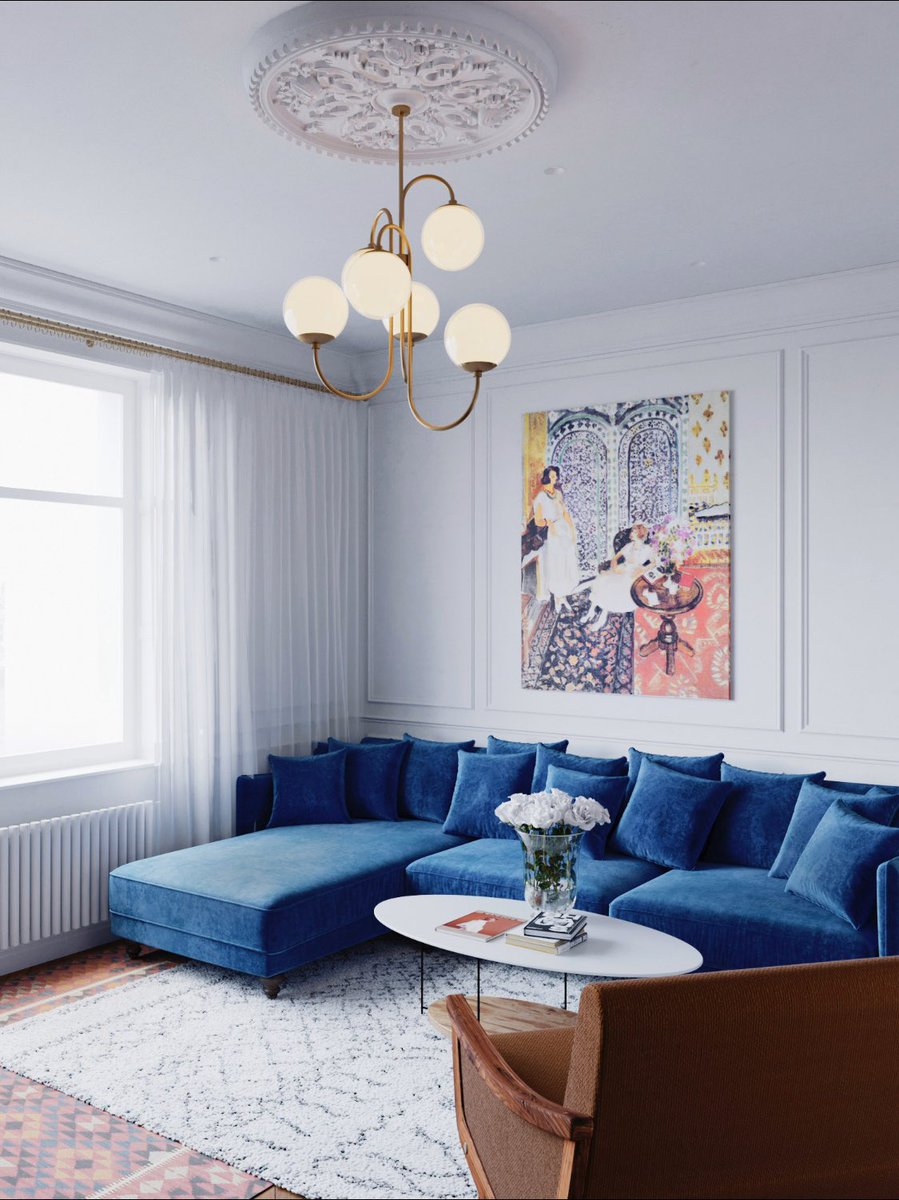biru: (113, 737, 371, 962), (619, 761, 899, 920), (372, 738, 494, 893)
coklat: (443, 969, 899, 1200)
putih: (376, 896, 701, 976), (501, 793, 605, 825)
